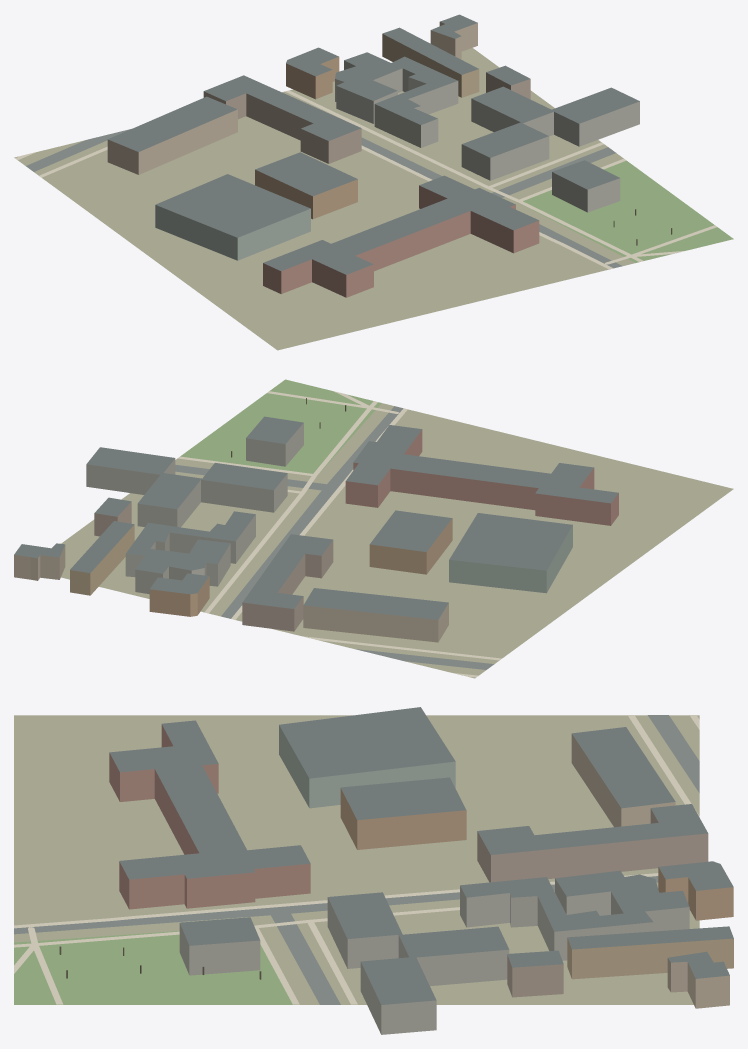
The model's file is sector--1_-7.glb.
3 renders of one model, top to bottom at view 1: azimuth 30°, elevation 25°; view 2: azimuth 150°, elevation 25°; view 3: azimuth 270°, elevation 25°, orthographic. The views are drawn at different scales.
Parts seen in each view (by area): view 1: -1:-7-ground, -1:-7-facade, -1:-7-roof, -1:-7-park, -1:-7-paving, -1:-7-road; view 2: -1:-7-ground, -1:-7-facade, -1:-7-roof, -1:-7-park, -1:-7-road, -1:-7-paving; view 3: -1:-7-ground, -1:-7-roof, -1:-7-facade, -1:-7-park, -1:-7-road, -1:-7-paving.
Boxes of the visible parts, <box> form: -1:-7-ground: <box>14,48,635,350</box>; -1:-7-facade: <box>107,22,639,297</box>; -1:-7-roof: <box>108,14,639,274</box>; -1:-7-park: <box>518,160,733,262</box>; -1:-7-paving: <box>15,90,716,269</box>; -1:-7-road: <box>26,129,622,268</box>; -1:-7-ground: <box>61,403,733,678</box>; -1:-7-facade: <box>14,423,618,642</box>; -1:-7-roof: <box>14,416,618,619</box>; -1:-7-park: <box>180,379,381,475</box>; -1:-7-road: <box>175,406,494,669</box>; -1:-7-paving: <box>177,391,501,677</box>; -1:-7-ground: <box>14,715,699,1004</box>; -1:-7-roof: <box>109,707,733,1004</box>; -1:-7-facade: <box>109,724,733,1034</box>; -1:-7-park: <box>14,931,296,1004</box>; -1:-7-road: <box>14,715,699,1004</box>; -1:-7-paving: <box>14,715,699,1004</box>.
Bounding box in the file's own units: 221 × 9.6 × 210.
